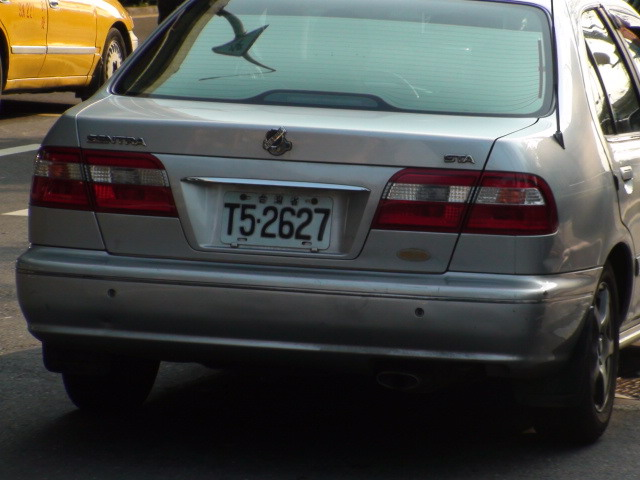plate: (222, 188, 334, 253)
